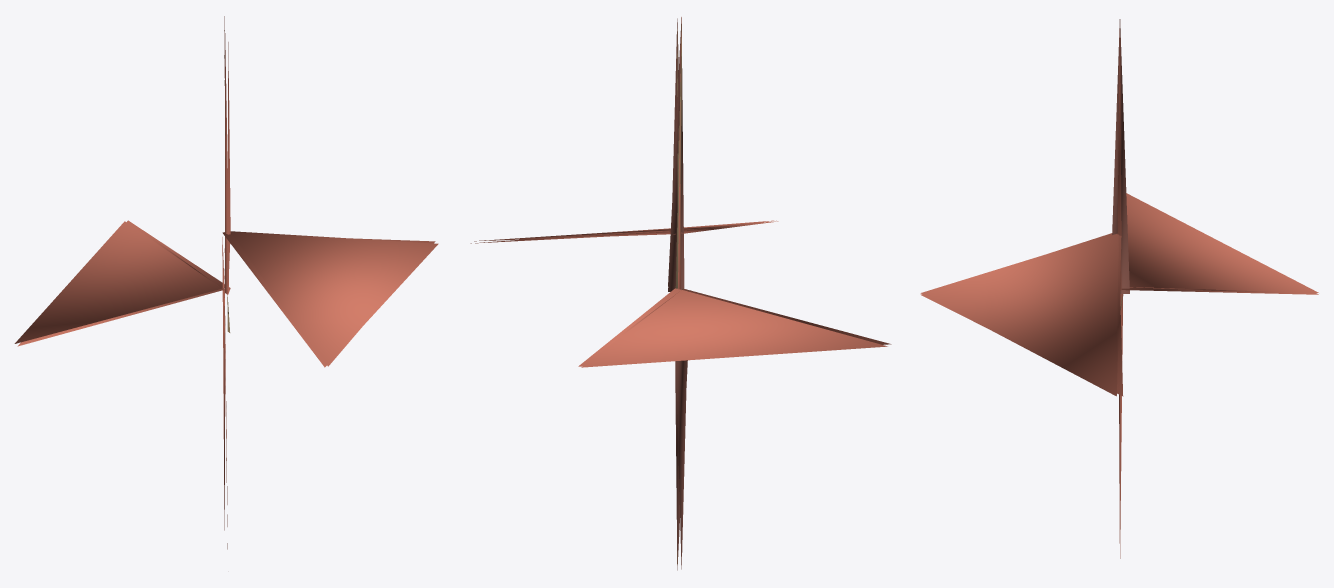
Rendered from equip_weapon_dragon_longsword.glb.
The picture shows the model from 3 angles, left to right: view 1: azimuth 30°, elevation 25°; view 2: azimuth 150°, elevation 25°; view 3: azimuth 270°, elevation 25°; orthographic projection.
Visible parts, largest first — view 1: equip_weapon_dragon_longsword; view 2: equip_weapon_dragon_longsword; view 3: equip_weapon_dragon_longsword.
Boxes of the visible parts, x1=… form: equip_weapon_dragon_longsword: x1=14, y1=16, x2=438, y2=549; equip_weapon_dragon_longsword: x1=470, y1=17, x2=891, y2=570; equip_weapon_dragon_longsword: x1=920, y1=19, x2=1318, y2=558.
Bounding box in the file's own units: 1.8 × 2.28 × 1.48.
